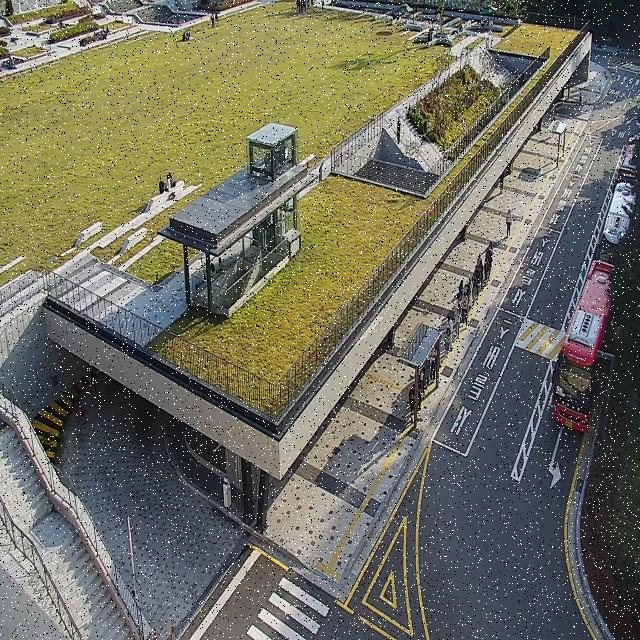queue: (415, 242, 493, 430)
